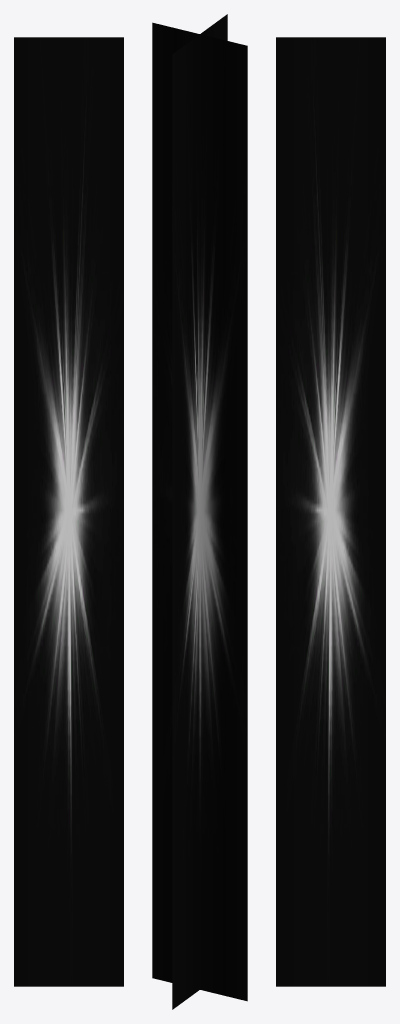
File: 0421_shizipian.glb
The picture shows the model from 3 angles, left to right: view 1: azimuth 90°, elevation 25°; view 2: azimuth 150°, elevation 25°; view 3: azimuth 270°, elevation 25°; orthographic projection.
Size of the model in its own units: 0.2304 by 2.2 by 0.2304.
Materials: 1 (1 with a texture image).
